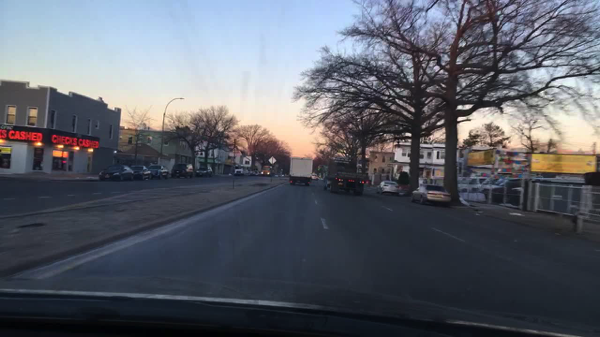car: (411, 185, 452, 206), (99, 165, 133, 181), (377, 179, 402, 195), (131, 163, 151, 179), (171, 162, 192, 177), (149, 164, 169, 179), (500, 178, 520, 190), (195, 166, 214, 178), (463, 177, 488, 184), (492, 177, 506, 187), (479, 177, 495, 185), (312, 175, 319, 181), (254, 171, 260, 175), (247, 171, 252, 175)
traffic sign: (269, 156, 277, 164)
truck: (324, 157, 368, 195), (288, 156, 313, 185), (235, 164, 250, 175), (260, 165, 272, 175)
